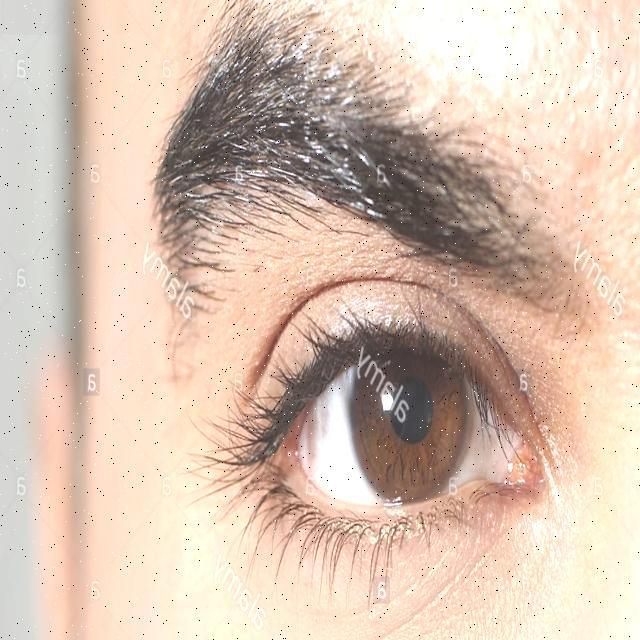Normal: (142, 0, 638, 637)
